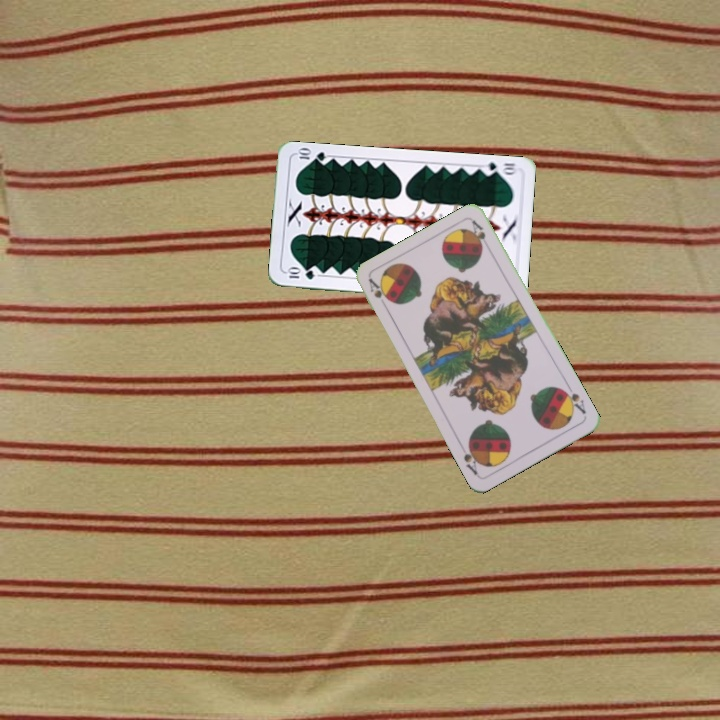G10: (479, 158, 519, 178), (283, 265, 317, 282)
SA: (557, 384, 589, 417), (364, 275, 392, 305)
